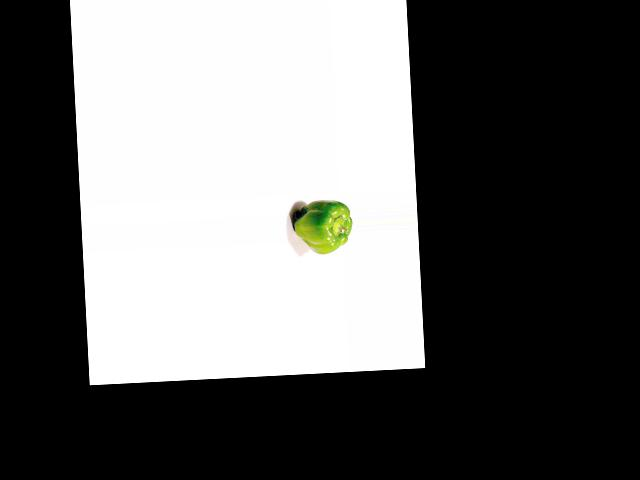bell_pepper: (289, 197, 353, 258)
